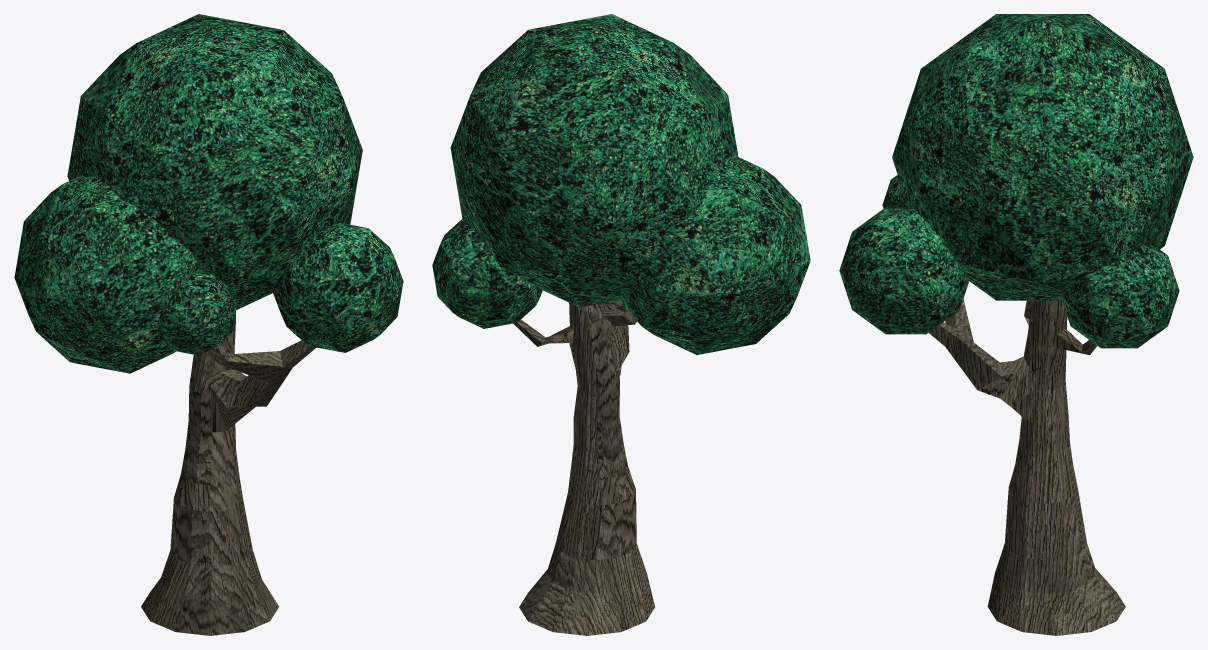
The model's file is tree_B.obj.
3 renders of one model, left to right at view 1: azimuth 30°, elevation 25°; view 2: azimuth 150°, elevation 25°; view 3: azimuth 270°, elevation 25°, orthographic.
Parts seen in each view (by area): view 1: Icosphere_Icosphere_MatLeafs, Cylinder_Cylinder_MatBark; view 2: Icosphere_Icosphere_MatLeafs, Cylinder_Cylinder_MatBark; view 3: Icosphere_Icosphere_MatLeafs, Cylinder_Cylinder_MatBark.
Part boxes in pixels (x1=…): Icosphere_Icosphere_MatLeafs: x1=14, y1=14, x2=403, y2=373; Cylinder_Cylinder_MatBark: x1=141, y1=311, x2=316, y2=635; Icosphere_Icosphere_MatLeafs: x1=432, y1=14, x2=810, y2=354; Cylinder_Cylinder_MatBark: x1=513, y1=300, x2=654, y2=635; Icosphere_Icosphere_MatLeafs: x1=839, y1=14, x2=1193, y2=348; Cylinder_Cylinder_MatBark: x1=929, y1=299, x2=1125, y2=635.
Bounding box in the file's own units: 1.85 × 3.26 × 1.79.
Materials: 2 (2 with a texture image).
